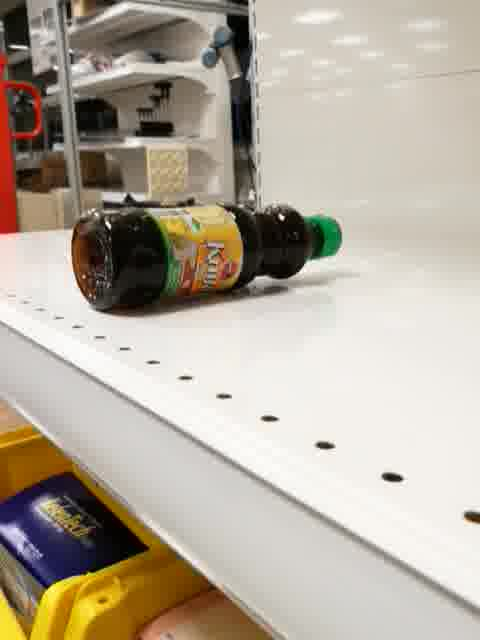cookingoil: (67, 200, 345, 317)
